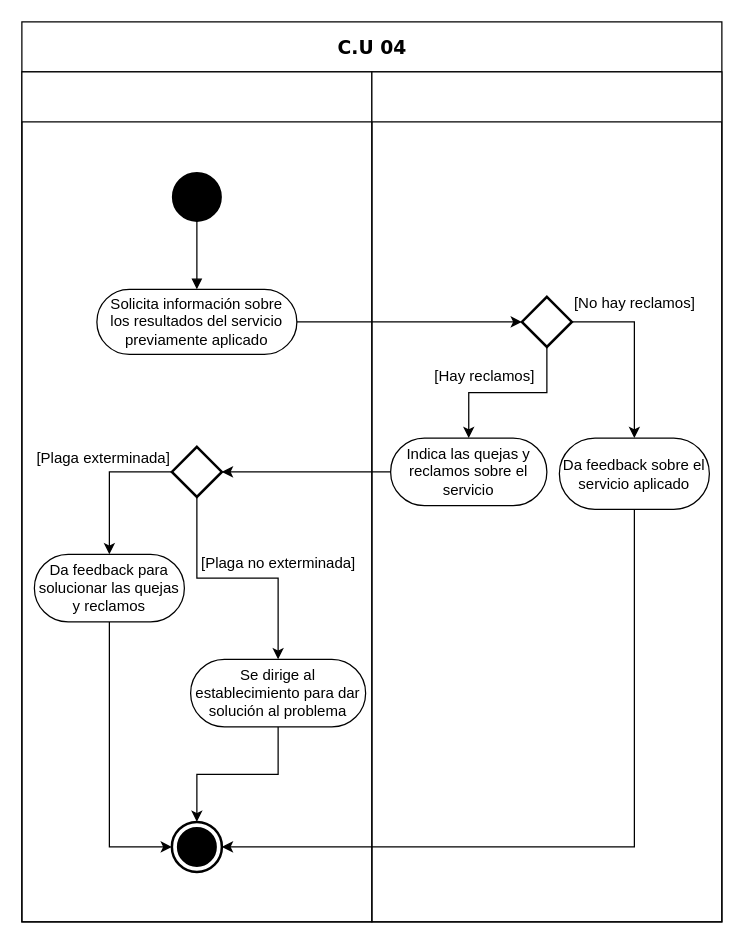
This 744x944 diagram has some shape labels left out. Here are the shapes that lost their labels. From the top down, the box of each, then its label:
(21, 71, 372, 922): Técnico de operaciones
(371, 71, 722, 922): Cliente
